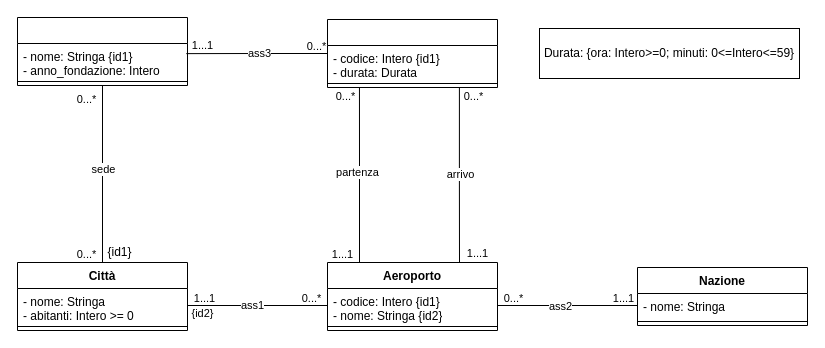
Some shapes in this 825 by 348 pixel diagram are drawn without their labels. Here are the shapes that lost their labels. From the top down, the box of each, then its label:
(16, 16, 188, 86): Compagnia Aerea
(326, 18, 498, 88): Volo
